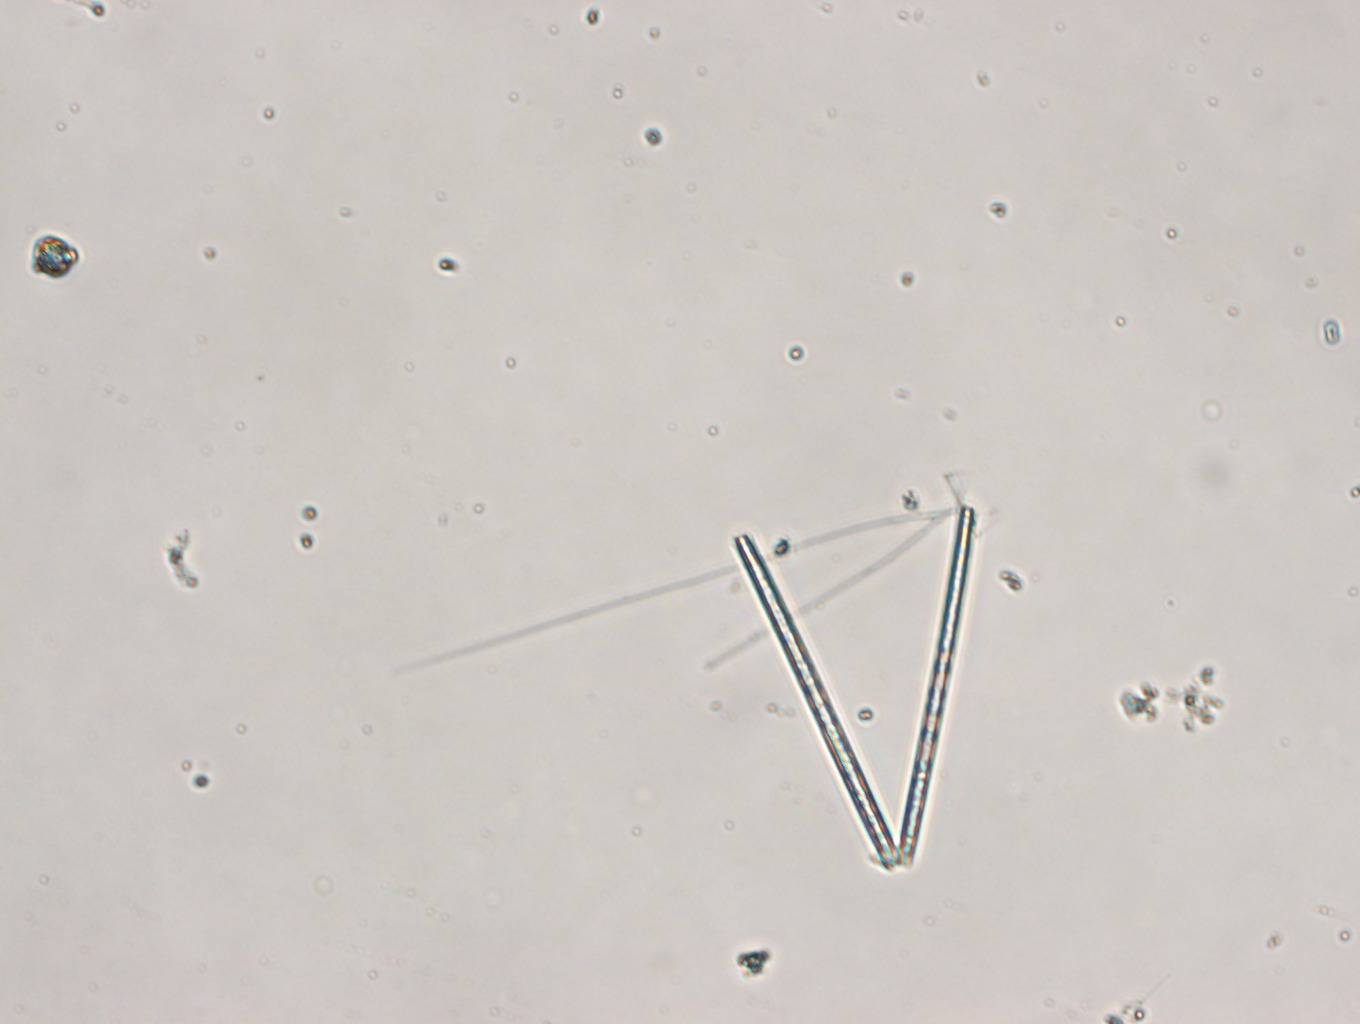thalassionema frauenfeldii: (731, 500, 986, 869)
